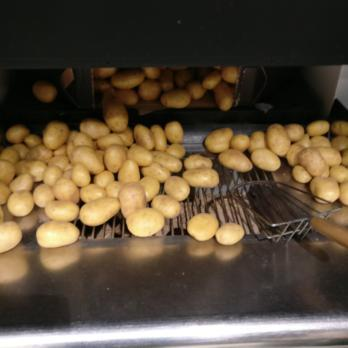Solid potato: (0, 121, 184, 249), (201, 123, 348, 198), (93, 69, 238, 131), (29, 79, 62, 104)
